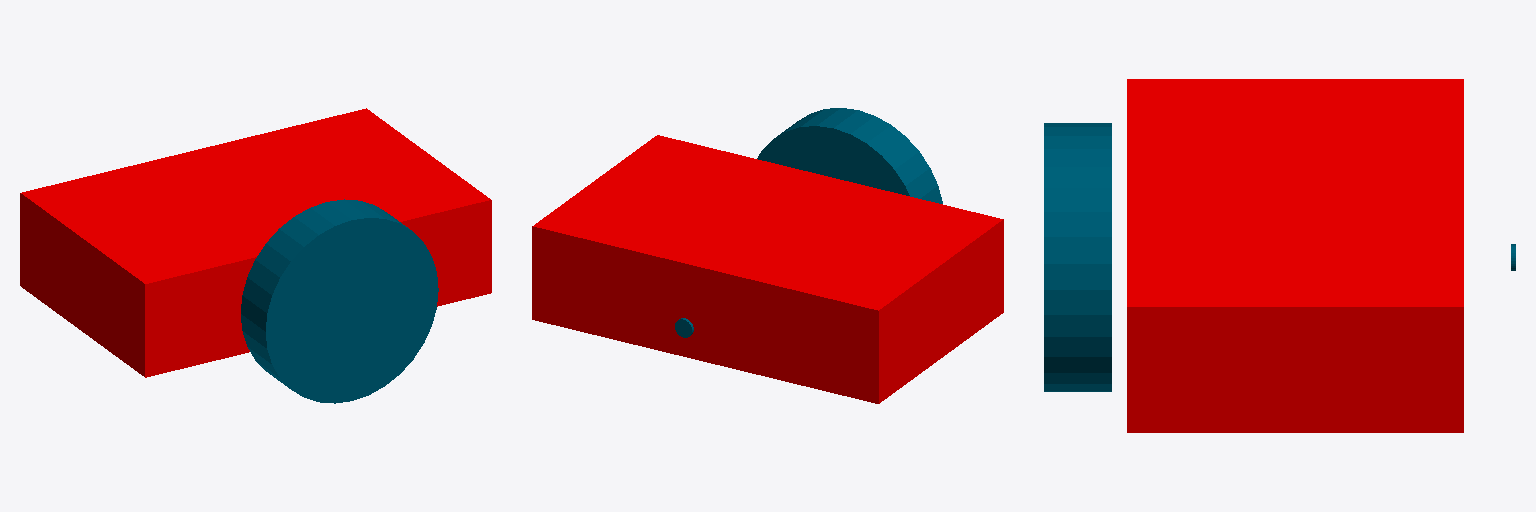
robot.urdf — diff_drive_robot:
<?xml version="1.0"?>
<robot name="diff_drive_robot">

    <!--............................... SENSOR PLUGINS ..................................... -->
    <gazebo>
        <plugin 
            filename="ignition-gazebo-joint-state-publisher-system" 
            name="ignition::gazebo::systems::JointStatePublisher">
        </plugin>

           <plugin 
            filename="ignition-gazebo-imu-system" 
            name="ignition::gazebo::systems::Imu">
            </plugin>
    </gazebo>

    <!--............................... MATERIALS ..................................... -->
    <material name="blue">
        <color rgba="0 0.4 0.5 1"/>
    </material>
    <material name="invisible">
        <color rgba="0.0 0.0 0.0 0.0"/>
    </material>

    <!--............................... LINKS ..................................... -->
    <!-- camera link -->
    <link name="camera_link_optical"></link>

    <!-- imu link -->
    <link name="imu_link">
    <inertial>
            <mass value="0.4"/>
            <inertia ixx="0.00048333" iyy="0.0013367" izz="0.0018133" ixy="0" ixz="0" iyz="0"/>
        </inertial>
    </link>
    
    <!-- baselink -->
    <link name="map"></link>

    <!-- Chassis link -->
    <link name="chassis_link">
        <visual>
            <origin xyz="0 0 0" rpy="0 0 0"/>
            <geometry>
                <box size="1.2 0.75 0.31"/>
            </geometry>
            <material name="red">
                <color rgba="1 0 0 1"/>
            </material>
        </visual>
        <collision>
            <origin xyz="0 0 0" rpy="0 0 0"/>
            <geometry>
                <box size="1.2 0.75 0.31"/>
            </geometry>
        </collision>
        <inertial>
            <mass value="0.4"/>
            <inertia ixx="0.00048333" iyy="0.0013367" izz="0.0018133" ixy="0" ixz="0" iyz="0"/>
        </inertial>
    </link>
    
    <!-- Wheel links -->
    <link name="front_right_wheel_link">
        <visual>
            <origin xyz="-0.05 -0.55 0" rpy="1.5708 0 0"/>
            <geometry>
                <cylinder radius="0.3" length="0.15"/>
            </geometry>
            <material name="blue"/>
        </visual>
        <collision>
            <origin xyz="-0.05 -0.55 0" rpy="1.5708 0 0"/>
            <geometry>
                <cylinder radius="0.03" length="0.01"/>
            </geometry>
        </collision>
        <inertial>
            <mass value="0.2"/>
            <inertia ixx="0.00004667" iyy="0.00004667" izz="0.00009" ixy="0" ixz="0" iyz="0"/>
        </inertial>
    </link>

    <link name="front_left_wheel_link">
        <visual>
            <origin xyz="-0.05 0.55 0" rpy="1.5708 0 0"/>
            <geometry>
                <cylinder radius="0.03" length="0.01"/>
            </geometry>
            <material name="blue"/>
        </visual>
        <collision>
            <origin xyz="-0.05 0.55 0" rpy="1.5708 0 0"/>
            <geometry>
                <cylinder radius="0.03" length="0.01"/>
            </geometry>
        </collision>
        <inertial>
            <mass value="0.2"/>
            <inertia ixx="0.00004667" iyy="0.00004667" izz="0.00009" ixy="0" ixz="0" iyz="0"/>
        </inertial>
    </link>

    <link name="rear_right_wheel_link">
        <visual>
            <origin xyz="0 0 0" rpy="1.5708 0 0"/>
            <geometry>
                <cylinder radius="0.03" length="0.01"/>
            </geometry>
            <material name="blue"/>
        </visual>
        <collision>
            <origin xyz="0 0 0" rpy="1.5708 0 0"/>
            <geometry>
                <cylinder radius="0.03" length="0.01"/>
            </geometry>
        </collision>
        <inertial>
            <mass value="0.2"/>
            <inertia ixx="0.00004667" iyy="0.00004667" izz="0.00009" ixy="0" ixz="0" iyz="0"/>
        </inertial>
    </link>

    <link name="rear_left_wheel_link">
        <visual>
            <origin xyz="0 0 0" rpy="1.5708 0 0"/>
            <geometry>
                <cylinder radius="0.03" length="0.01"/>
            </geometry>
            <material name="blue"/>
        </visual>
        <collision>
            <origin xyz="0 0 0" rpy="1.5708 0 0"/>
            <geometry>
                <cylinder radius="0.03" length="0.01"/>
            </geometry>
        </collision>
        <inertial>
            <mass value="0.2"/>
            <inertia ixx="0.00004667" iyy="0.00004667" izz="0.00009" ixy="0" ixz="0" iyz="0"/>
        </inertial>
    </link>

    <!-- Virtual rear wheel -->
    <link name="virtual_rear_wheel">
        <visual>
            <origin xyz="0 0 0" rpy="0 1.5708 0"/>
            <geometry>
                <cylinder radius="0.03" length="0.01"/>
            </geometry>
            <material name="invisible"/>
        </visual>
        <collision>
            <origin xyz="0 0 0" rpy="0 1.5708 0"/>
            <geometry>
                <cylinder radius="0.03" length="0.01"/>
            </geometry>
        </collision>
        <inertial>
            <mass value="0.2"/>
            <inertia ixx="0.00004667" iyy="0.00004667" izz="0.00009" ixy="0" ixz="0" iyz="0"/>
        </inertial>
    </link>

    <link name="virtual_front_wheel">
        <visual>
            <origin xyz="0 -0.12 0" rpy="0 1.5708 0"/>
            <geometry>
                <cylinder radius="0.03" length="0.01"/>
            </geometry>
            <material name="invisible"/>
        </visual>
        <collision>
            <origin xyz="0 0 0" rpy="0 1.5708 0"/>
            <geometry>
                <cylinder radius="0.03" length="0.01"/>
            </geometry>
        </collision>
        <inertial>
            <mass value="0.2"/>
            <inertia ixx="0.00004667" iyy="0.00004667" izz="0.00009" ixy="0" ixz="0" iyz="0"/>
        </inertial>
    </link>

    <link name="camera_link">
        <visual>
            <origin xyz="0 -0.12 0" rpy="0 1.5708 0"/>
            <geometry>
                <cylinder radius="0.003" length="0.01"/>
            </geometry>
        </visual>
        <collision>
            <origin xyz="0 0 0" rpy="0 1.5708 0"/>
            <geometry>
                <cylinder radius="0.003" length="0.01"/>
            </geometry>
        </collision>
        <inertial>
            <mass value="0.2"/>
            <inertia ixx="0.00004667" iyy="0.00004667" izz="0.00009" ixy="0" ixz="0" iyz="0"/>
        </inertial>
    </link>

    <!-- Joints -->
    <joint name="joint_base_chassis" type="fixed">
        <parent link="map"/>
        <child link="chassis_link"/>
        <origin xyz="0.06 0.065 0" rpy="0 0 0"/>
    </joint>    

    <joint name="joint_chassis_camera" type="continuous">
        <parent link="chassis_link"/>
        <child link="camera_link"/>
        <origin xyz="0.06 0.065 0" rpy="0 0 0"/>
        <axis xyz="0 1 0"/>
    </joint>

   <joint name="joint_chassis_imu" type="continuous">
        <parent link="chassis_link"/>
        <child link="imu_link"/>
        <origin xyz="0.06 0.065 0" rpy="0 0 0"/>
        <axis xyz="0 1 0"/>
    </joint>

    <joint name="joint_chassis_front_right_wheel" type="continuous">
        <parent link="chassis_link"/>
        <child link="front_right_wheel_link"/>
        <origin xyz="0.06 0.065 0" rpy="0 0 0"/>
        <axis xyz="0 1 0"/>
    </joint>
    
    <joint name="joint_chassis_front_left_wheel" type="continuous">
        <parent link="chassis_link"/>
        <child link="front_left_wheel_link"/>
        <origin xyz="0.06 -0.065 0" rpy="0 0 0"/>
        <axis xyz="0 1 0"/>
    </joint>
    
    <joint name="joint_chassis_rear_right_wheel" type="continuous">
        <parent link="chassis_link"/>
        <child link="rear_right_wheel_link"/>
        <origin xyz="-0.06 0.065 0" rpy="0 0 0"/>
        <axis xyz="0 1 0"/>
    </joint>
    
    <joint name="joint_chassis_rear_left_wheel" type="continuous">
        <parent link="chassis_link"/>
        <child link="rear_left_wheel_link"/>
        <origin xyz="-0.06 -0.065 0" rpy="0 0 0"/>
        <axis xyz="0 1 0"/>
    </joint>

    <joint name="virtual_rear_wheel_joint" type="continuous">
        <parent link="chassis_link"/>
        <child link="virtual_rear_wheel"/>
        <origin xyz="-0.06 0 0" rpy="0 0 1.5708"/>
        <axis xyz="1 0 0"/>
        <limit effort="100.0" velocity="100.0"/>
        <dynamics damping="0.2"/>
    </joint>

    <joint name="virtual_front_wheel_joint" type="revolute">
        <parent link="chassis_link"/> 
        <child link="virtual_front_wheel"/>
        <origin xyz="-0.06 0 0" rpy="0 0 1.5708"/>
        <axis xyz="0 0 1"/>
        <limit lower="-0.4" upper="0.4" effort="100.0" velocity="0.0"/>
        <dynamics damping="0.2"/>
    </joint>

    <joint name="camera_optical_joint" type="fixed">
        <origin xyz="0 0 0" rpy="-1.571 0 -1.571" />
        <parent link="chassis_link"/>
        <child link="camera_link_optical" />
    </joint>
   
    <!--............................... GAZEBO DRIVER ..................................... -->
    <gazebo>
        <plugin
            filename="libignition-gazebo-diff-drive-system.so"
            name="ignition::gazebo::systems::DiffDrive">
            <left_joint>joint_chassis_front_left_wheel</left_joint>
            <right_joint>joint_chassis_front_right_wheel</right_joint>
            <wheel_separation>0.2</wheel_separation>
            <wheel_radius>0.03</wheel_radius>
            <odom_publish_frequency>1</odom_publish_frequency>
            <topic>cmd_vel</topic>
        </plugin>

        <plugin filename="gz-sim-linearbatteryplugin-system"
          name="gz::sim::systems::LinearBatteryPlugin">
            <battery_name>linear_battery</battery_name>
            <voltage>12.592</voltage>
            <open_circuit_voltage_constant_coef>12.592</open_circuit_voltage_constant_coef>
            <capacity>1.2009</capacity>
            <power_load>6.6</power_load>
            <fix_issue_225>true</fix_issue_225>
            <enable_recharge>true</enable_recharge>
            <!-- charging I = c / t, discharging I = P / V,
            charging I should be > discharging I -->
            <charging_time>3.0</charging_time>
            <!-- Consumer-specific -->
            <power_load>2.1</power_load>
            <recharge_by_topic>true</recharge_by_topic>
      </plugin>

    </gazebo>

    <!--............................... IMU PLUGIN ..................................... -->
    <gazebo reference="imu_link">
        <sensor name="imu" type="imu">
            <always_on>true</always_on>
            <update_rate>5</update_rate>
            <visualize>true</visualize>
            <topic>imu</topic>
        </sensor>
    </gazebo>

    <!-- ........................... CAMERA PLUGIN ................................... -->
    <gazebo reference="camera_link">
        <sensor name="rgbd_camera" type="rgbd_camera">
            <camera>
                <horizontal_fov>1.047</horizontal_fov>
                <image>
                    <width>320</width>
                    <height>240</height>
                </image>
                <clip>
                    <near>0.1</near>
                    <far>100</far>
                </clip>
                <save enabled="true">
                    <path>rgbd</path>
                </save>
            </camera>
            <always_on>1</always_on>
            <update_rate>30</update_rate>
            <visualize>true</visualize>
            <topic>rgbd_camera</topic>
            <enable_metrics>true</enable_metrics>
        </sensor>
    </gazebo>
</robot>

--- Render facts (derived) ---
The picture shows the robot from 3 angles, left to right: view 1: azimuth 30°, elevation 25°; view 2: azimuth 150°, elevation 25°; view 3: azimuth 270°, elevation 25°; orthographic projection.
Model diff_drive_robot with 11 links and 10 joints (1 revolute, 7 continuous, 2 fixed), rooted at map, posed all joints at 0.
Links seen in each view (by area): view 1: chassis_link, front_right_wheel_link; view 2: chassis_link, front_right_wheel_link; view 3: chassis_link, front_right_wheel_link.
Boxes of the visible links, bbox=[...] form: chassis_link: bbox=[20, 108, 491, 377]; front_right_wheel_link: bbox=[241, 199, 438, 403]; chassis_link: bbox=[532, 135, 1003, 403]; front_right_wheel_link: bbox=[757, 108, 942, 203]; chassis_link: bbox=[1127, 79, 1463, 432]; front_right_wheel_link: bbox=[1044, 123, 1111, 391].
Size in the robot's own frame: 1.2 by 1.05 by 0.6 metres.
Geometry: primitives only (box / cylinder / sphere), no mesh files.
